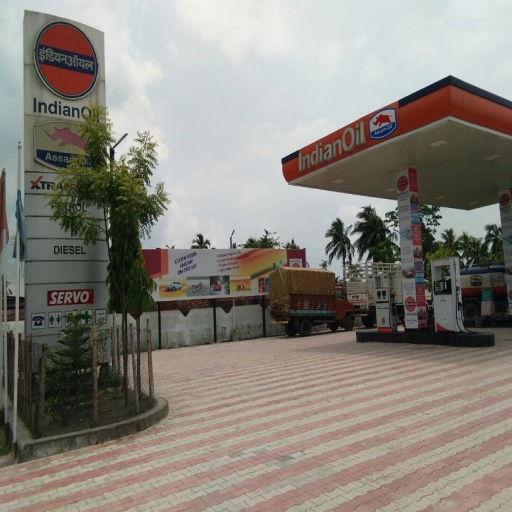roof: (281, 75, 511, 213)
